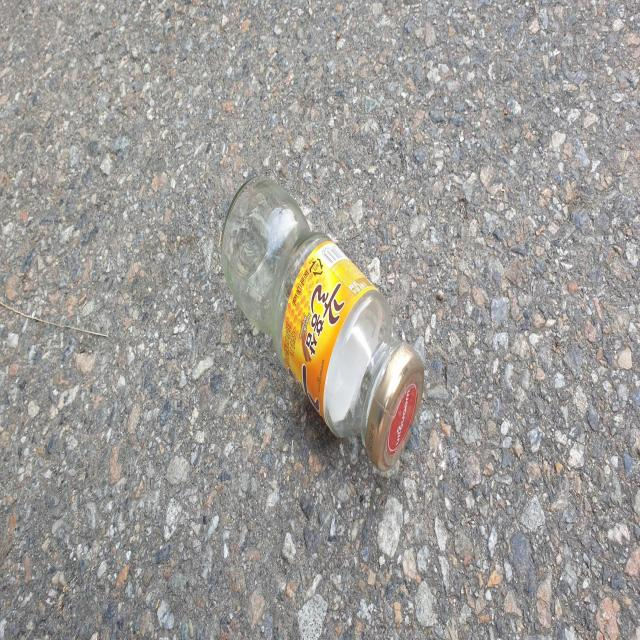glass: (221, 177, 425, 471)
